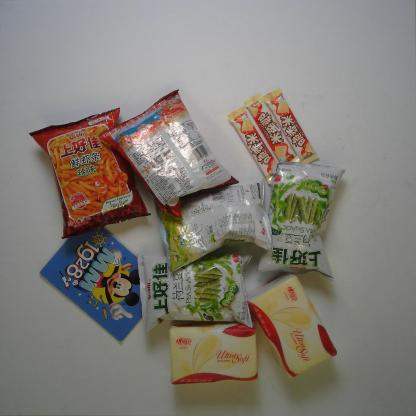Chocolate: (264, 87, 318, 164), (242, 93, 300, 164), (227, 107, 278, 184)
Puffed Food: (99, 88, 239, 220), (28, 107, 151, 240), (253, 161, 346, 281), (155, 181, 273, 274), (135, 253, 258, 331)
Stationery: (39, 231, 145, 341)
Tissue: (248, 273, 340, 378), (167, 320, 260, 386)
